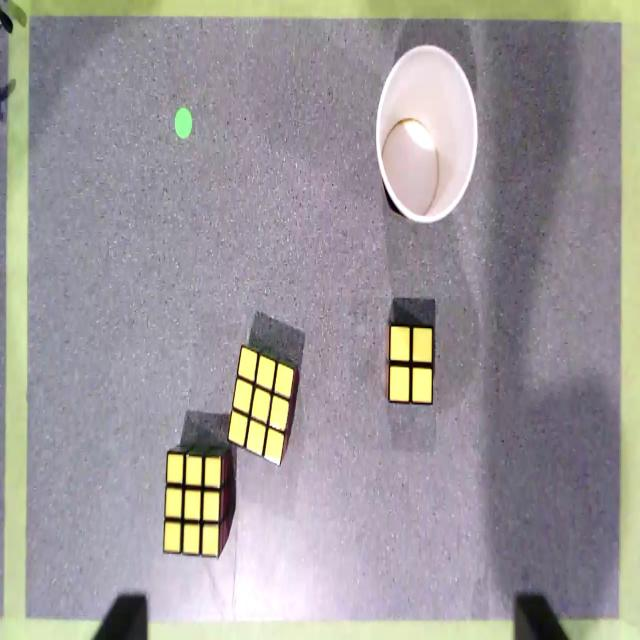cube2-yellow: (388, 324, 433, 405)
cube3-yellow: (227, 345, 294, 467), (163, 454, 221, 557)
